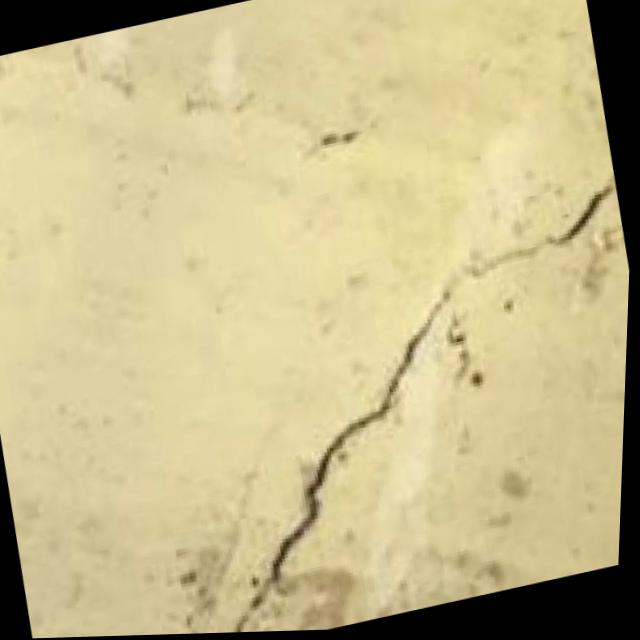Crack: (155, 161, 635, 636)
